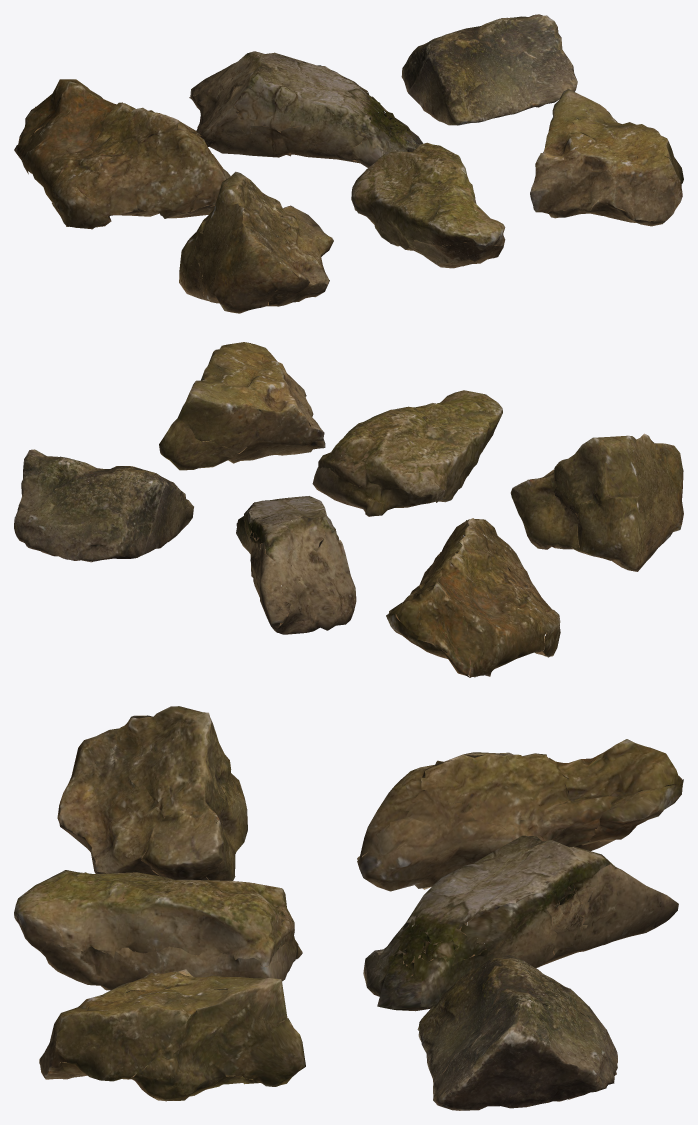
Rendered from rocks-game.glb.
The picture shows the model from 3 angles, top to bottom: view 1: azimuth 30°, elevation 25°; view 2: azimuth 150°, elevation 25°; view 3: azimuth 270°, elevation 25°; orthographic projection. The views are drawn at different scales.
Visible parts, largest first — view 1: rock_moss_set_01_rock01, rock_moss_set_01_rock02, rock_moss_set_01_rock06, rock_moss_set_01_rock04, rock_moss_set_01_rock03, rock_moss_set_01_rock05; view 2: rock_moss_set_01_rock04, rock_moss_set_01_rock01, rock_moss_set_01_rock05, rock_moss_set_01_rock03, rock_moss_set_01_rock06, rock_moss_set_01_rock02; view 3: rock_moss_set_01_rock01, rock_moss_set_01_rock02, rock_moss_set_01_rock05, rock_moss_set_01_rock04, rock_moss_set_01_rock06, rock_moss_set_01_rock03.
Boxes of the visible parts, x1=… form: rock_moss_set_01_rock01: x1=14, y1=79, x2=230, y2=229; rock_moss_set_01_rock02: x1=189, y1=51, x2=422, y2=167; rock_moss_set_01_rock06: x1=530, y1=89, x2=683, y2=226; rock_moss_set_01_rock04: x1=179, y1=171, x2=333, y2=313; rock_moss_set_01_rock03: x1=401, y1=14, x2=577, y2=125; rock_moss_set_01_rock05: x1=351, y1=142, x2=505, y2=268; rock_moss_set_01_rock04: x1=510, y1=433, x2=683, y2=571; rock_moss_set_01_rock01: x1=386, y1=518, x2=560, y2=677; rock_moss_set_01_rock05: x1=312, y1=390, x2=502, y2=516; rock_moss_set_01_rock03: x1=14, y1=449, x2=193, y2=562; rock_moss_set_01_rock06: x1=159, y1=342, x2=325, y2=470; rock_moss_set_01_rock02: x1=236, y1=496, x2=356, y2=634; rock_moss_set_01_rock01: x1=357, y1=739, x2=683, y2=891; rock_moss_set_01_rock02: x1=363, y1=835, x2=678, y2=1011; rock_moss_set_01_rock05: x1=14, y1=870, x2=302, y2=990; rock_moss_set_01_rock04: x1=57, y1=706, x2=247, y2=880; rock_moss_set_01_rock06: x1=39, y1=969, x2=305, y2=1101; rock_moss_set_01_rock03: x1=417, y1=955, x2=617, y2=1110.
Size of the model in its own units: 7.99 by 1.77 by 6.95.
Materials: 1 (1 with a texture image).
